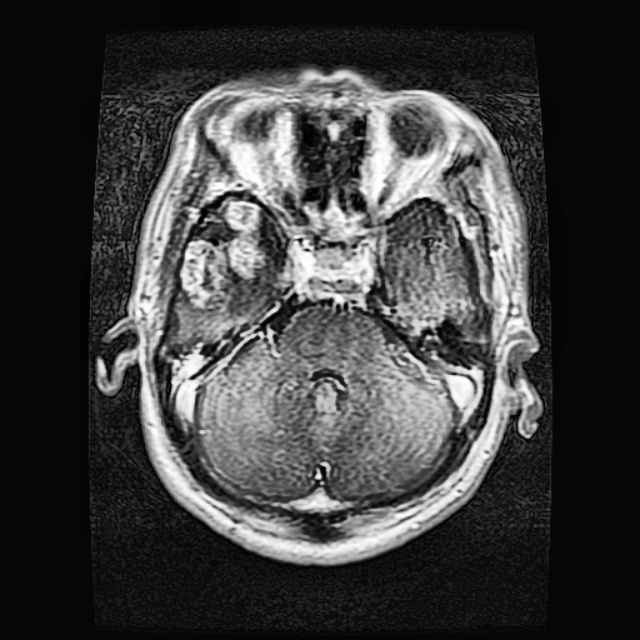Pituitary: (179, 200, 272, 313)
